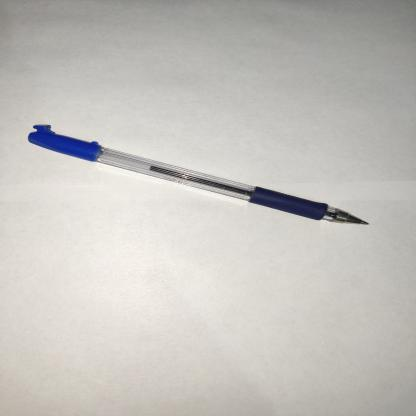Pen: (27, 100, 389, 282)
